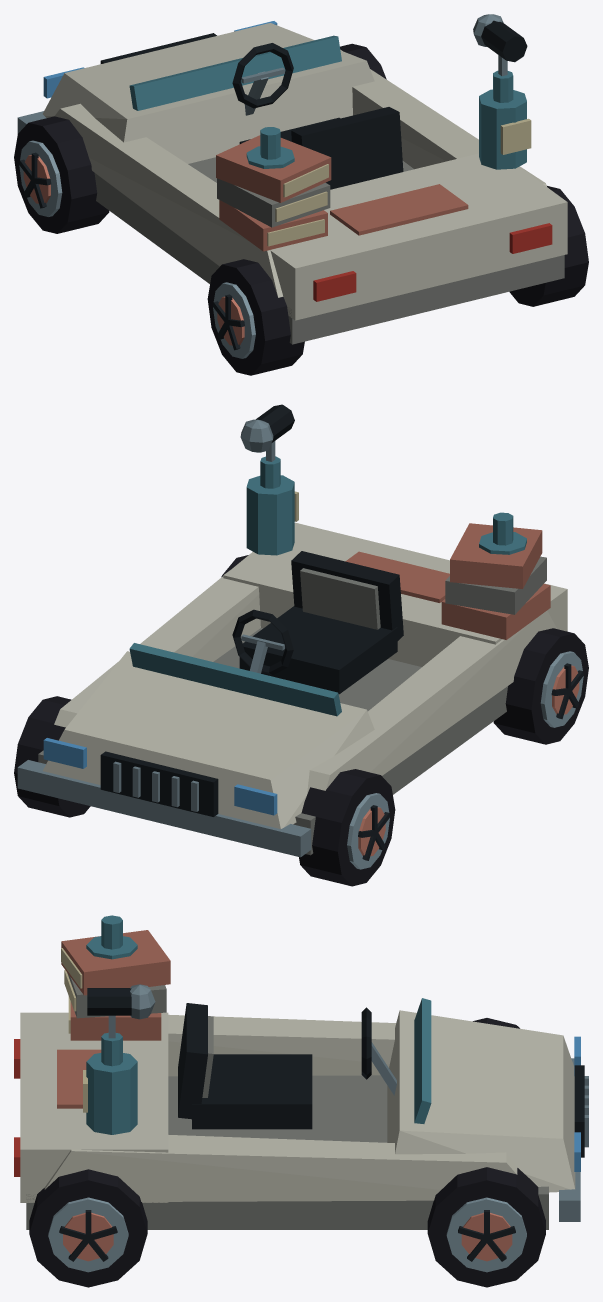
The model's file is kart.glb.
3 renders of one model, top to bottom at view 1: azimuth 30°, elevation 25°; view 2: azimuth 150°, elevation 25°; view 3: azimuth 270°, elevation 25°, orthographic. The views are drawn at different scales.
Visible parts, largest first — view 1: identity-sedan-sedan-road-car-body, identity-sedan-motif-books, identity-sedan-driver-cockpit, wheel-front-left, wheel-rear-left, identity-sedan-motif-bottles, wheel-rear-right, identity-sedan-motif-microphone, wheel-front-right; view 2: identity-sedan-sedan-road-car-body, identity-sedan-driver-cockpit, identity-sedan-motif-books, wheel-front-left, wheel-rear-left, identity-sedan-motif-bottles, wheel-front-right, identity-sedan-motif-microphone; view 3: identity-sedan-sedan-road-car-body, identity-sedan-driver-cockpit, wheel-front-right, wheel-rear-right, identity-sedan-motif-books, identity-sedan-motif-bottles, identity-sedan-motif-microphone.
Part boxes in pixels (x1=…): identity-sedan-sedan-road-car-body: x1=17, y1=21, x2=567, y2=344; identity-sedan-motif-books: x1=216, y1=135, x2=331, y2=251; identity-sedan-driver-cockpit: x1=232, y1=43, x2=403, y2=189; wheel-front-left: x1=14, y1=116, x2=109, y2=233; wheel-rear-left: x1=207, y1=259, x2=304, y2=375; identity-sedan-motif-bottles: x1=246, y1=70, x2=531, y2=169; wheel-rear-right: x1=509, y1=186, x2=588, y2=306; identity-sedan-motif-microphone: x1=473, y1=14, x2=527, y2=76; wheel-front-right: x1=340, y1=43, x2=386, y2=79; identity-sedan-sedan-road-car-body: x1=17, y1=522, x2=567, y2=857; identity-sedan-driver-cockpit: x1=232, y1=551, x2=403, y2=694; identity-sedan-motif-books: x1=441, y1=523, x2=550, y2=639; wheel-front-left: x1=299, y1=769, x2=395, y2=886; wheel-rear-left: x1=493, y1=628, x2=588, y2=744; identity-sedan-motif-bottles: x1=246, y1=456, x2=526, y2=555; wheel-front-right: x1=14, y1=696, x2=90, y2=817; identity-sedan-motif-microphone: x1=240, y1=404, x2=294, y2=461; identity-sedan-sedan-road-car-body: x1=14, y1=998, x2=588, y2=1229; identity-sedan-driver-cockpit: x1=178, y1=1003, x2=396, y2=1129; wheel-front-right: x1=427, y1=1167, x2=545, y2=1287; wheel-rear-right: x1=29, y1=1169, x2=147, y2=1287; identity-sedan-motif-books: x1=61, y1=930, x2=170, y2=1040; identity-sedan-motif-bottles: x1=83, y1=915, x2=137, y2=1134; identity-sedan-motif-microphone: x1=87, y1=984, x2=155, y2=1038.
Bounding box in the file's own units: 2.07 × 1.57 × 2.92.
